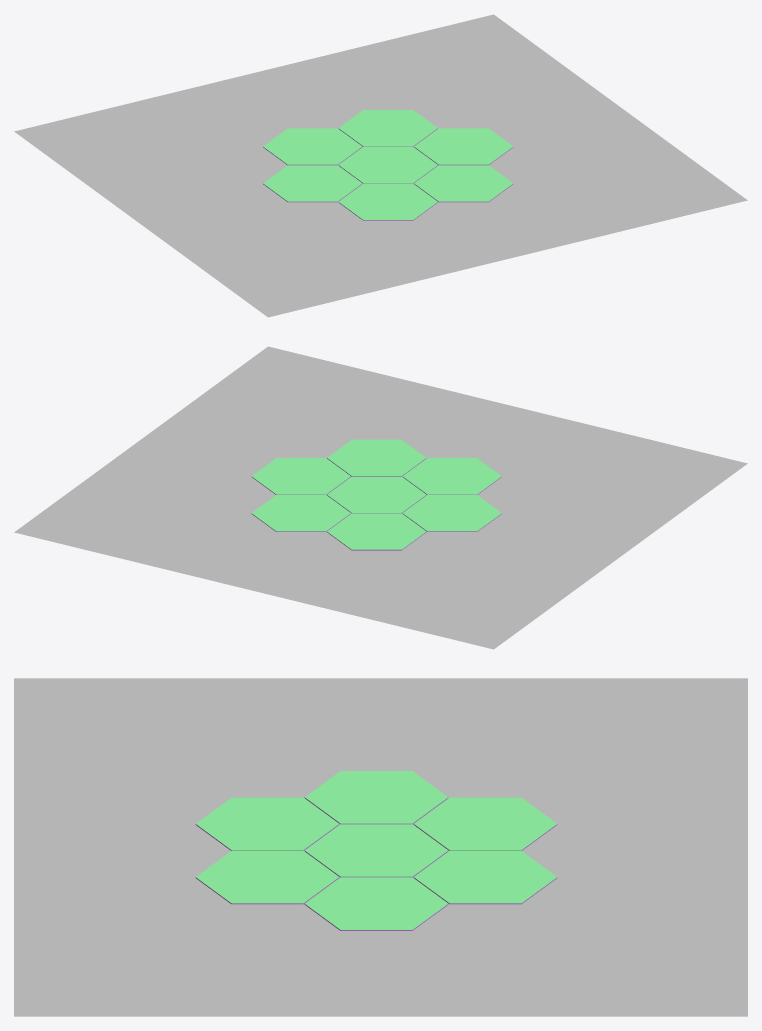
The model's file is SPW0110019.FBX.
3 renders of one model, top to bottom at view 1: azimuth 30°, elevation 25°; view 2: azimuth 150°, elevation 25°; view 3: azimuth 270°, elevation 25°, orthographic. The views are drawn at different scales.
Parts seen in each view (by area): view 1: smSPW0110019; view 2: smSPW0110019; view 3: smSPW0110019.
Part boxes in pixels (box(x1,y1,x2,y2)): smSPW0110019: box(14, 14, 747, 317); smSPW0110019: box(14, 346, 747, 649); smSPW0110019: box(14, 678, 747, 1016).
Bounding box in the file's own units: 300 × 3.82 × 276.
2 materials, 1 textured.
